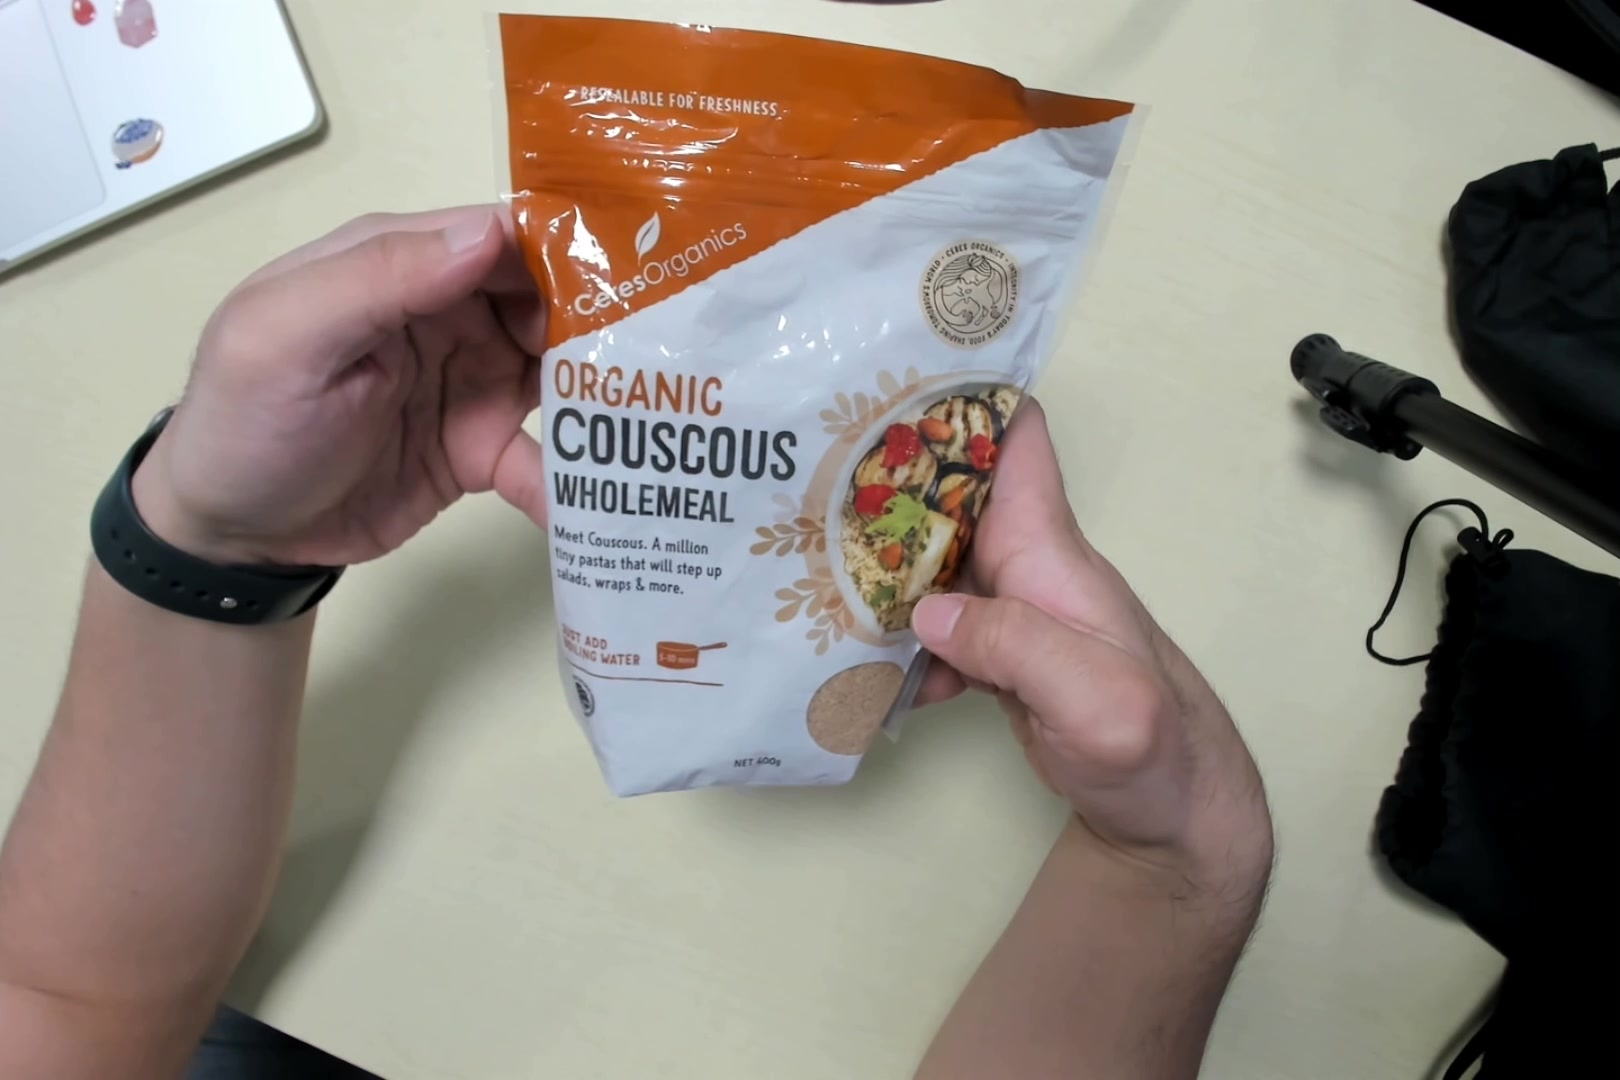Rice(BrownOthers)_300-399g_NonHalal_NonHealthy: (504, 13, 1076, 804)
